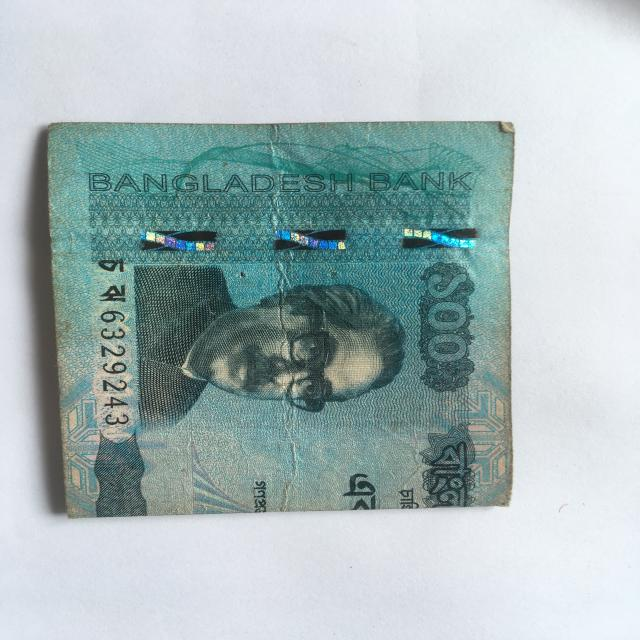Taka: (42, 111, 524, 517)
